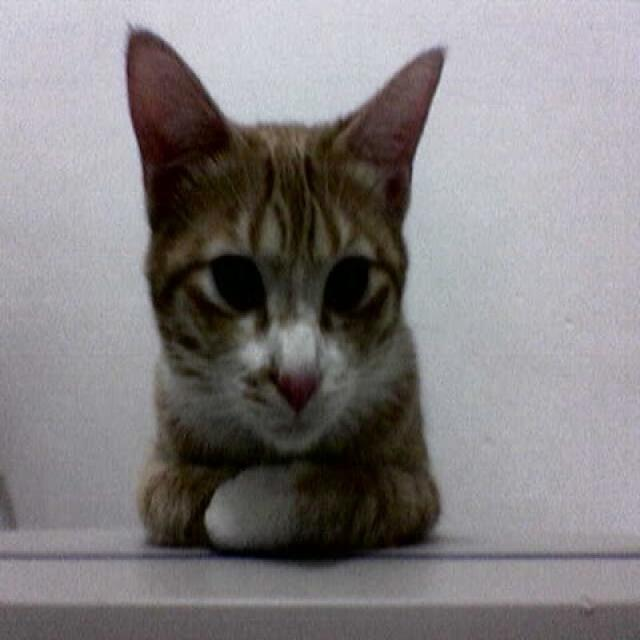left eye: (323, 252, 373, 314)
